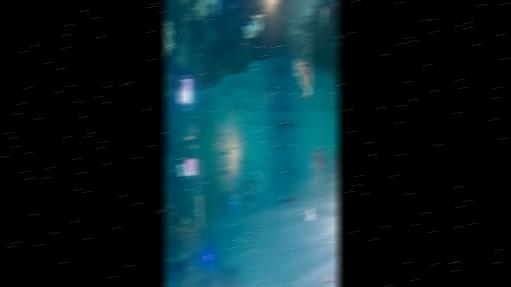Fish: (295, 58, 312, 100), (244, 14, 263, 38), (311, 168, 320, 188), (310, 150, 319, 168), (319, 149, 326, 170), (231, 192, 240, 206), (303, 209, 314, 220), (331, 168, 338, 185), (246, 180, 253, 195), (333, 149, 338, 168), (214, 0, 219, 14), (251, 175, 258, 185), (267, 88, 272, 102), (324, 6, 327, 27), (249, 195, 254, 207), (248, 102, 253, 113), (325, 272, 330, 282), (251, 87, 255, 97), (225, 91, 230, 99), (237, 98, 242, 106), (235, 78, 238, 89), (278, 124, 292, 126), (248, 80, 251, 89), (229, 103, 232, 111), (251, 118, 254, 126), (241, 81, 244, 88), (164, 283, 169, 287), (337, 42, 340, 48)
